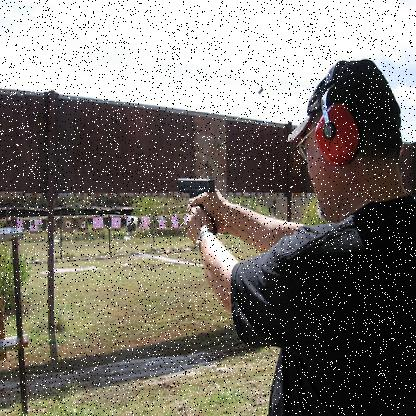pistol: (176, 175, 218, 234)
